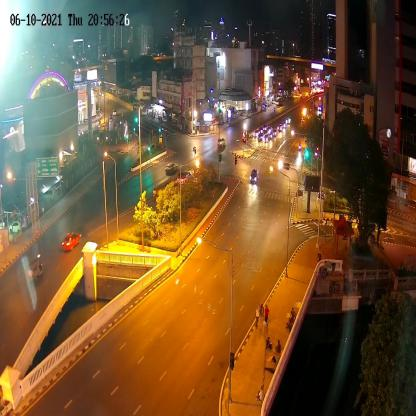car: (60, 228, 81, 253), (165, 161, 179, 176), (249, 168, 259, 186), (217, 138, 226, 149), (257, 132, 264, 142), (264, 134, 271, 144), (254, 127, 260, 138)
motorcycle: (298, 141, 302, 153)
